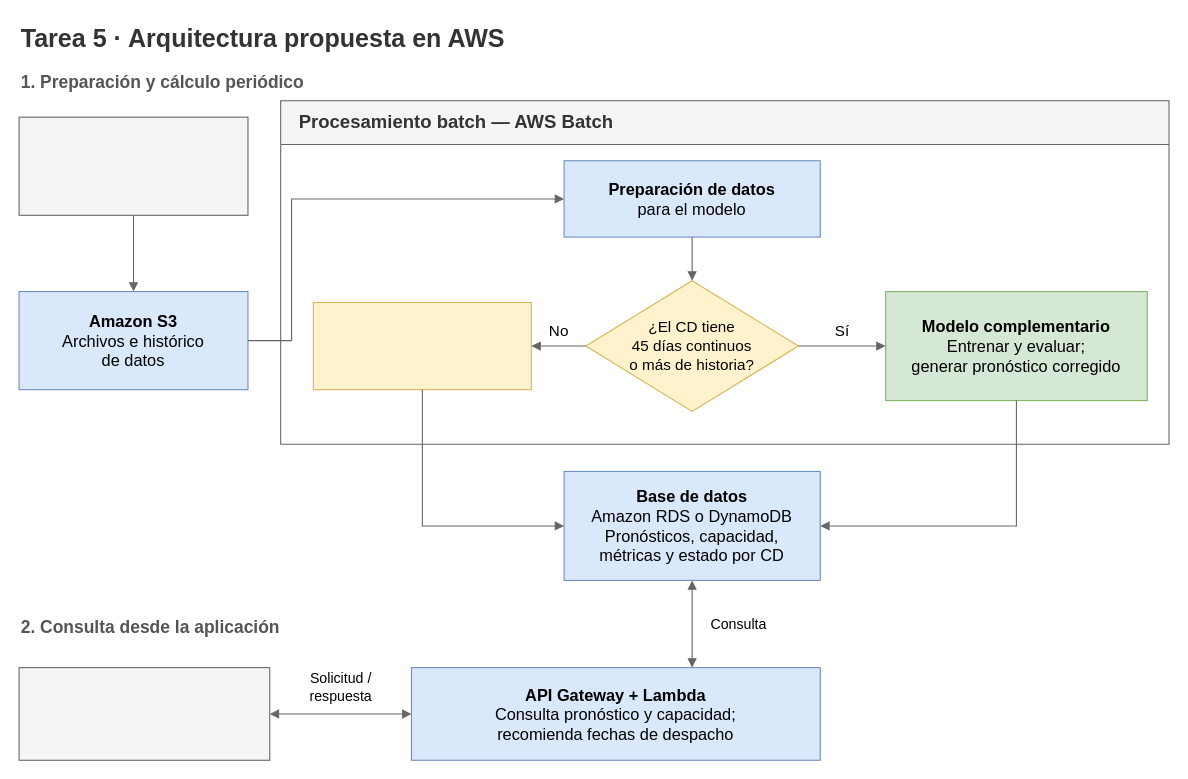
Image size: 1188x779. Some labels were removed from this diagram. Each missing label, with the centre of its shape:
"App / backend B2B Consulta fechas de despacho" goes at pixel 144 713.
"Datos de entrada Pedidos, pronóstico base, capacidad y plan de entrega" goes at pixel 133 165.
"Usar pronóstico base Fallback" goes at pixel 421 345.
